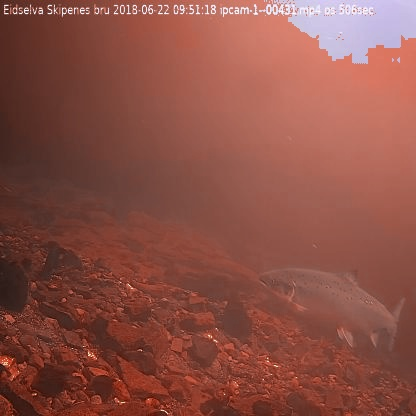salmon: (256, 263, 408, 357)
